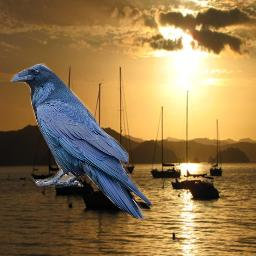Crow: (9, 63, 153, 219)
